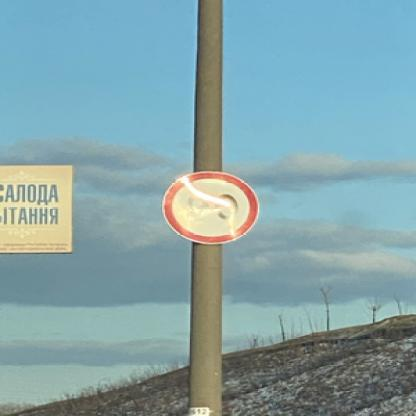speedlimit: (161, 172, 258, 244)
